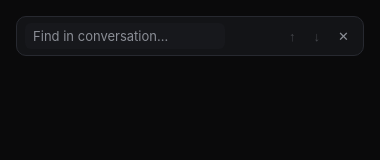
Test: FindBar › navigates with the next/previous buttons
This screenshot has width=380, height=160.
In the field labelled "Find in conversation": (125, 36) [25,23,225,49], type "y"
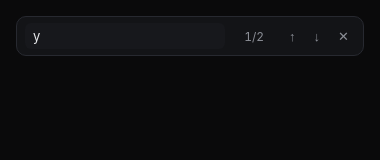
Click the button named "Next match": (317, 36) [308,24,326,48]
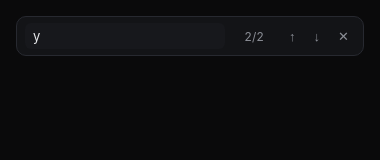
Result: the text "2/2" is shown at [244,28,264,44]
